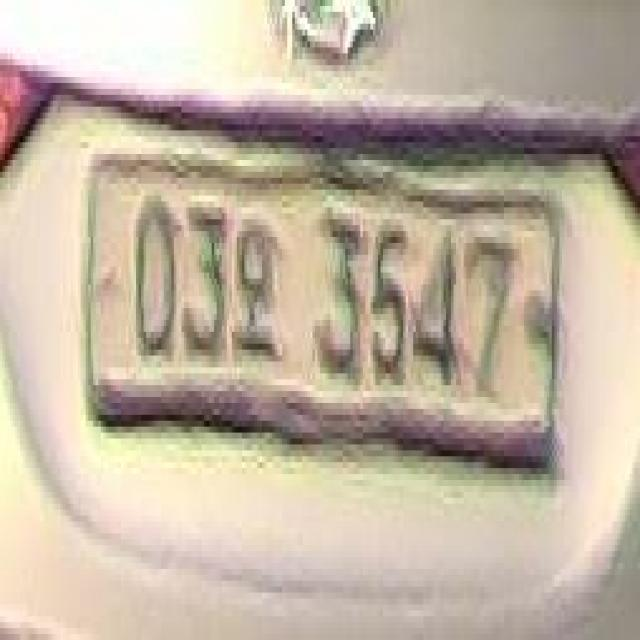illegal_plate: (81, 139, 566, 509)
